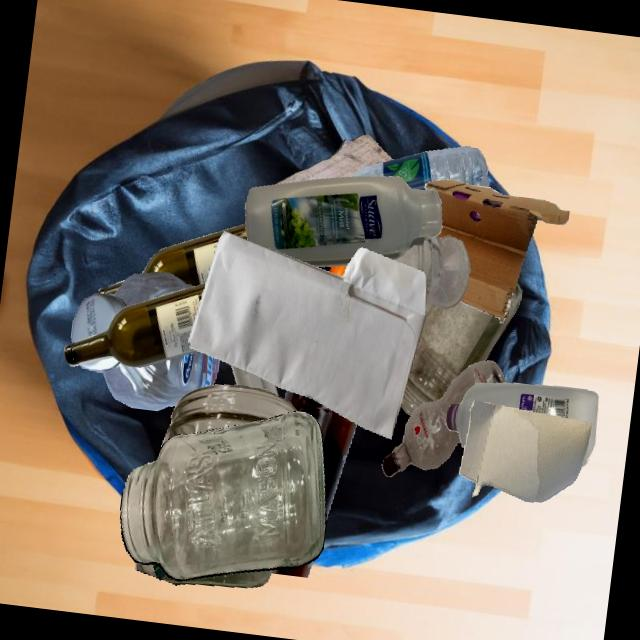biowaste: (153, 563, 166, 580), (329, 265, 346, 276)
cardboard: (424, 179, 569, 323), (458, 400, 592, 502)
glass: (120, 411, 326, 581), (400, 282, 522, 416), (153, 424, 249, 576), (64, 282, 205, 367), (284, 390, 356, 519), (142, 223, 247, 286), (394, 235, 470, 310)
paper: (188, 231, 426, 439), (273, 135, 392, 184)
plastic: (245, 176, 441, 266), (381, 360, 506, 476), (445, 382, 598, 467), (70, 272, 194, 343), (80, 351, 219, 410), (350, 146, 489, 190), (230, 364, 278, 396)
